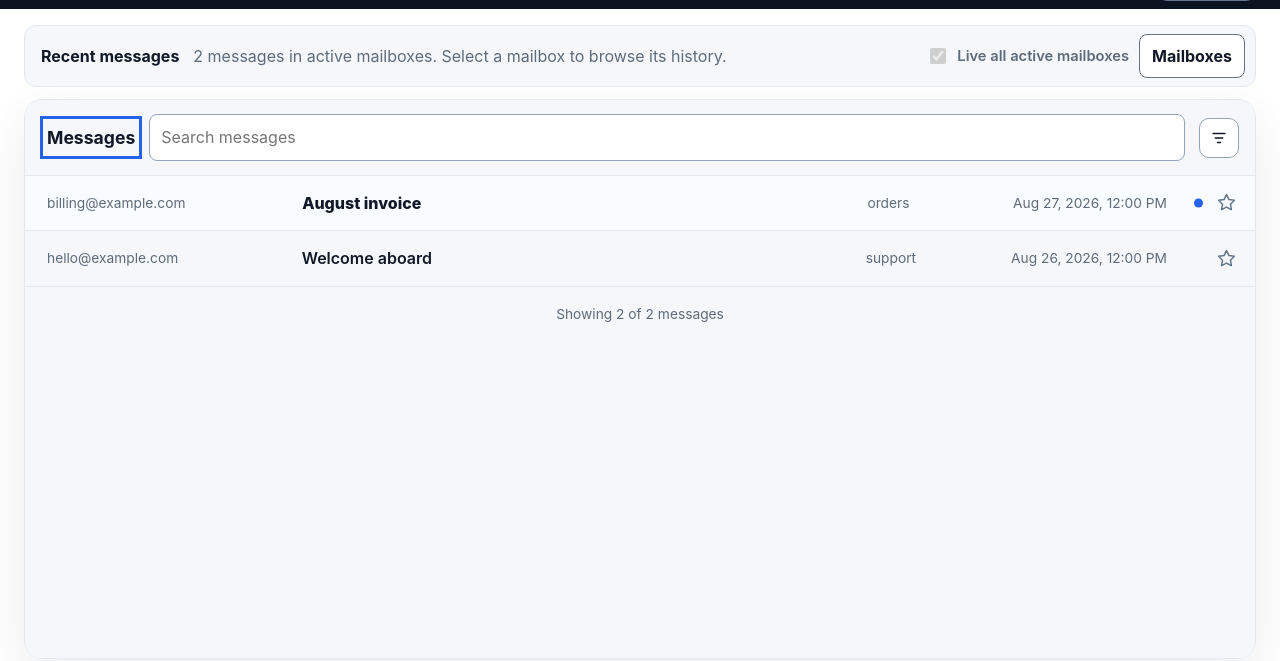
it: recent messages › shows selected mailbox history and restores recent history after clearing it
The image size is (1280, 661).
Check: the button with aria-label "Read: Welcome aboard" is shown, box [25, 231, 1255, 286]
Step 1. Click the heading named "Manage saved mailboxes" → (1192, 56), box [1139, 34, 1245, 78]
(page scrolled)
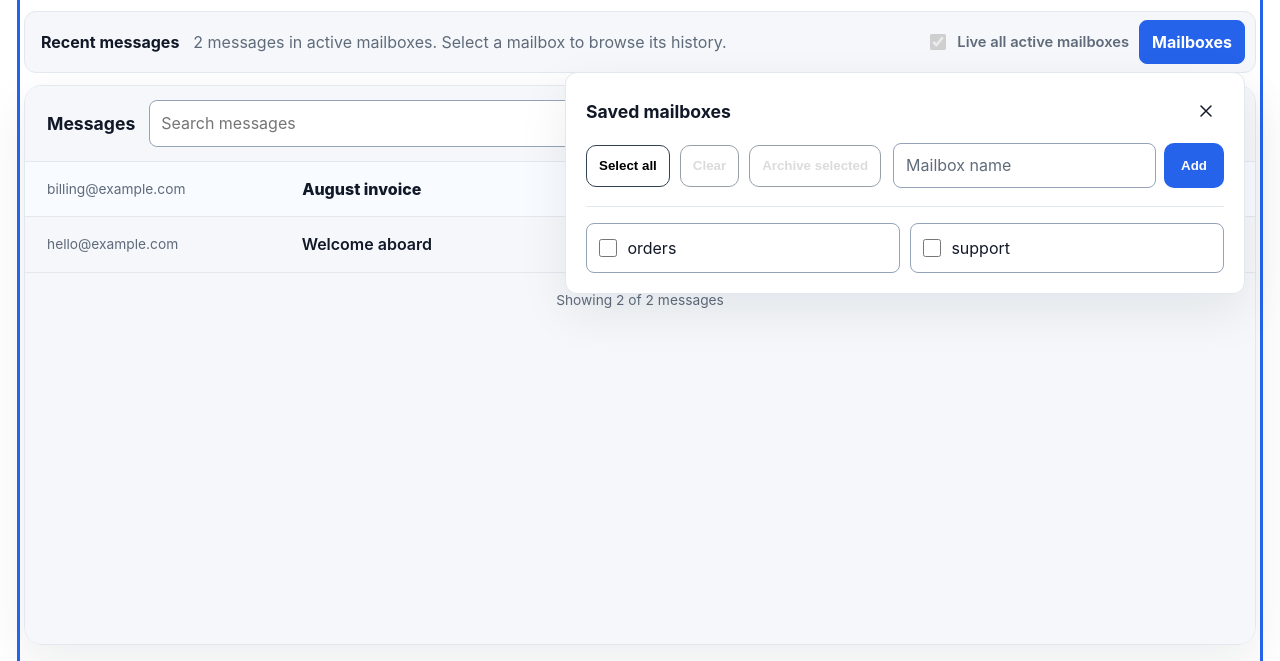
Step 2. Click the checkbox labelled "orders" → (608, 248), box [599, 239, 617, 257]
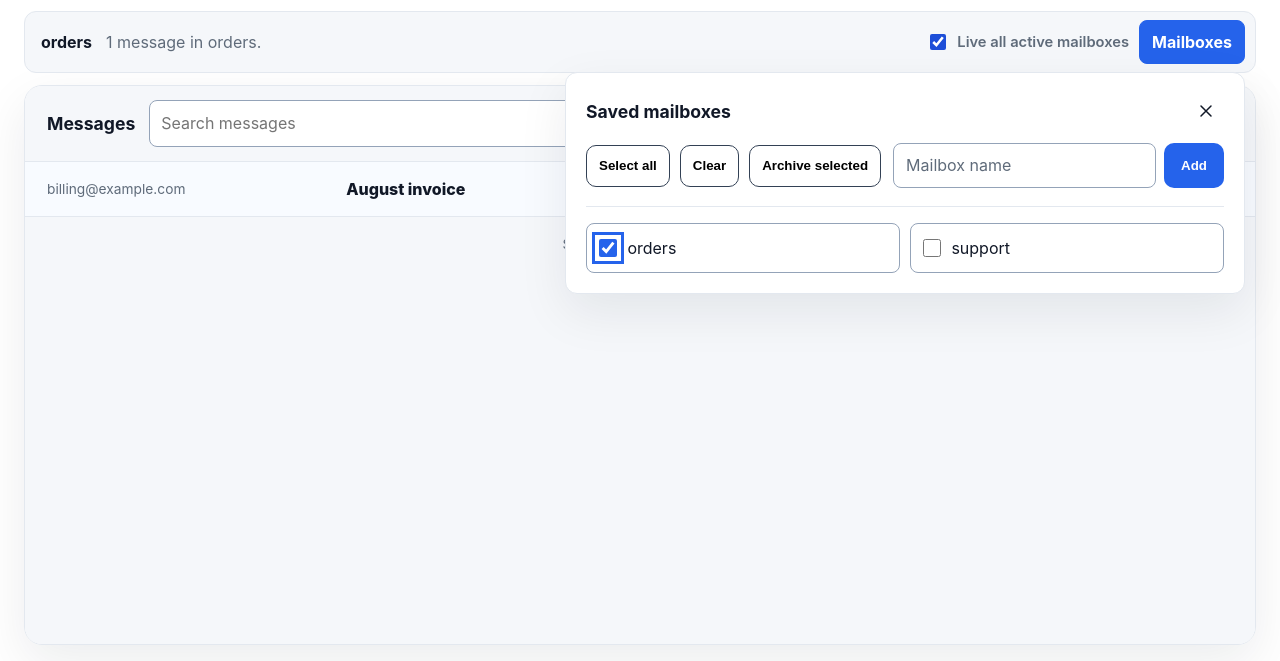
Check: the button with aria-label "Unread: August invoice" is shown, box [25, 162, 1255, 216]
Check: the text "Showing 1 of 1 message" is shown, box [563, 233, 718, 256]
Check: the text "orders" next to "1 message in orders." is shown, box [41, 32, 92, 52]
Step 3. Click the button "Clear" → (709, 166), box [680, 145, 739, 187]
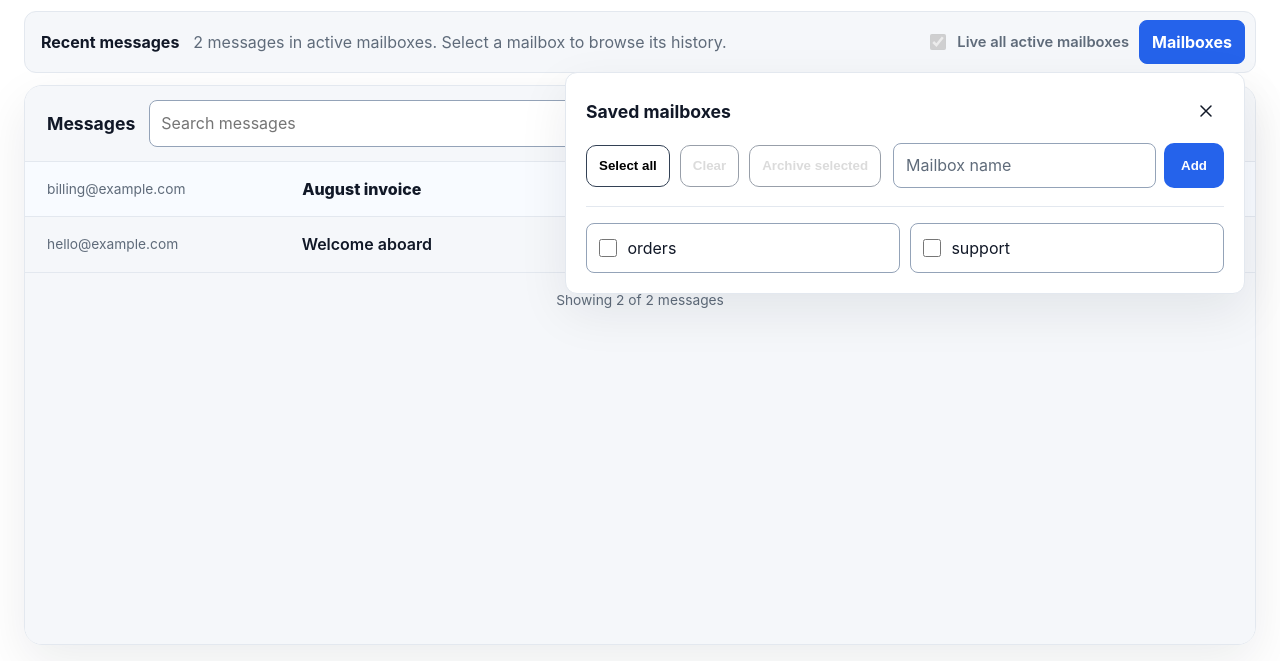
Check: the button with aria-label "Read: Welcome aboard" is shown, box [25, 217, 1255, 272]
Check: the text "Recent messages" is shown, box [41, 29, 179, 55]
Check: the text "Showing 2 of 2 messages" is shown, box [556, 289, 724, 311]
